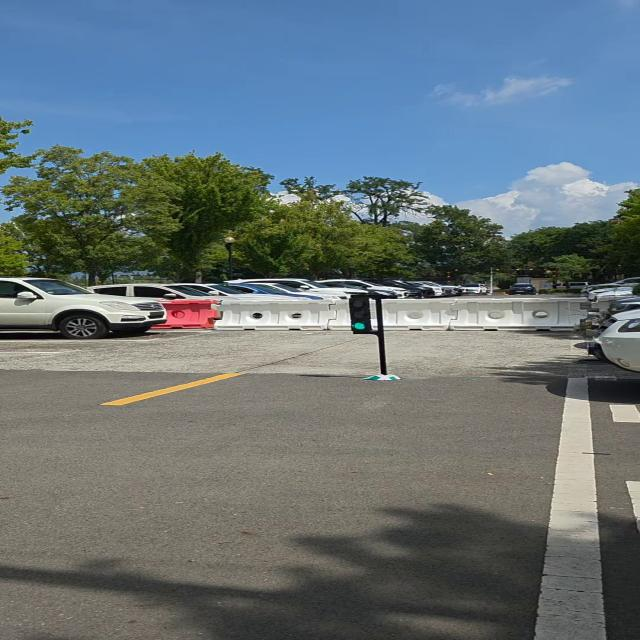green: (345, 294, 379, 335)
